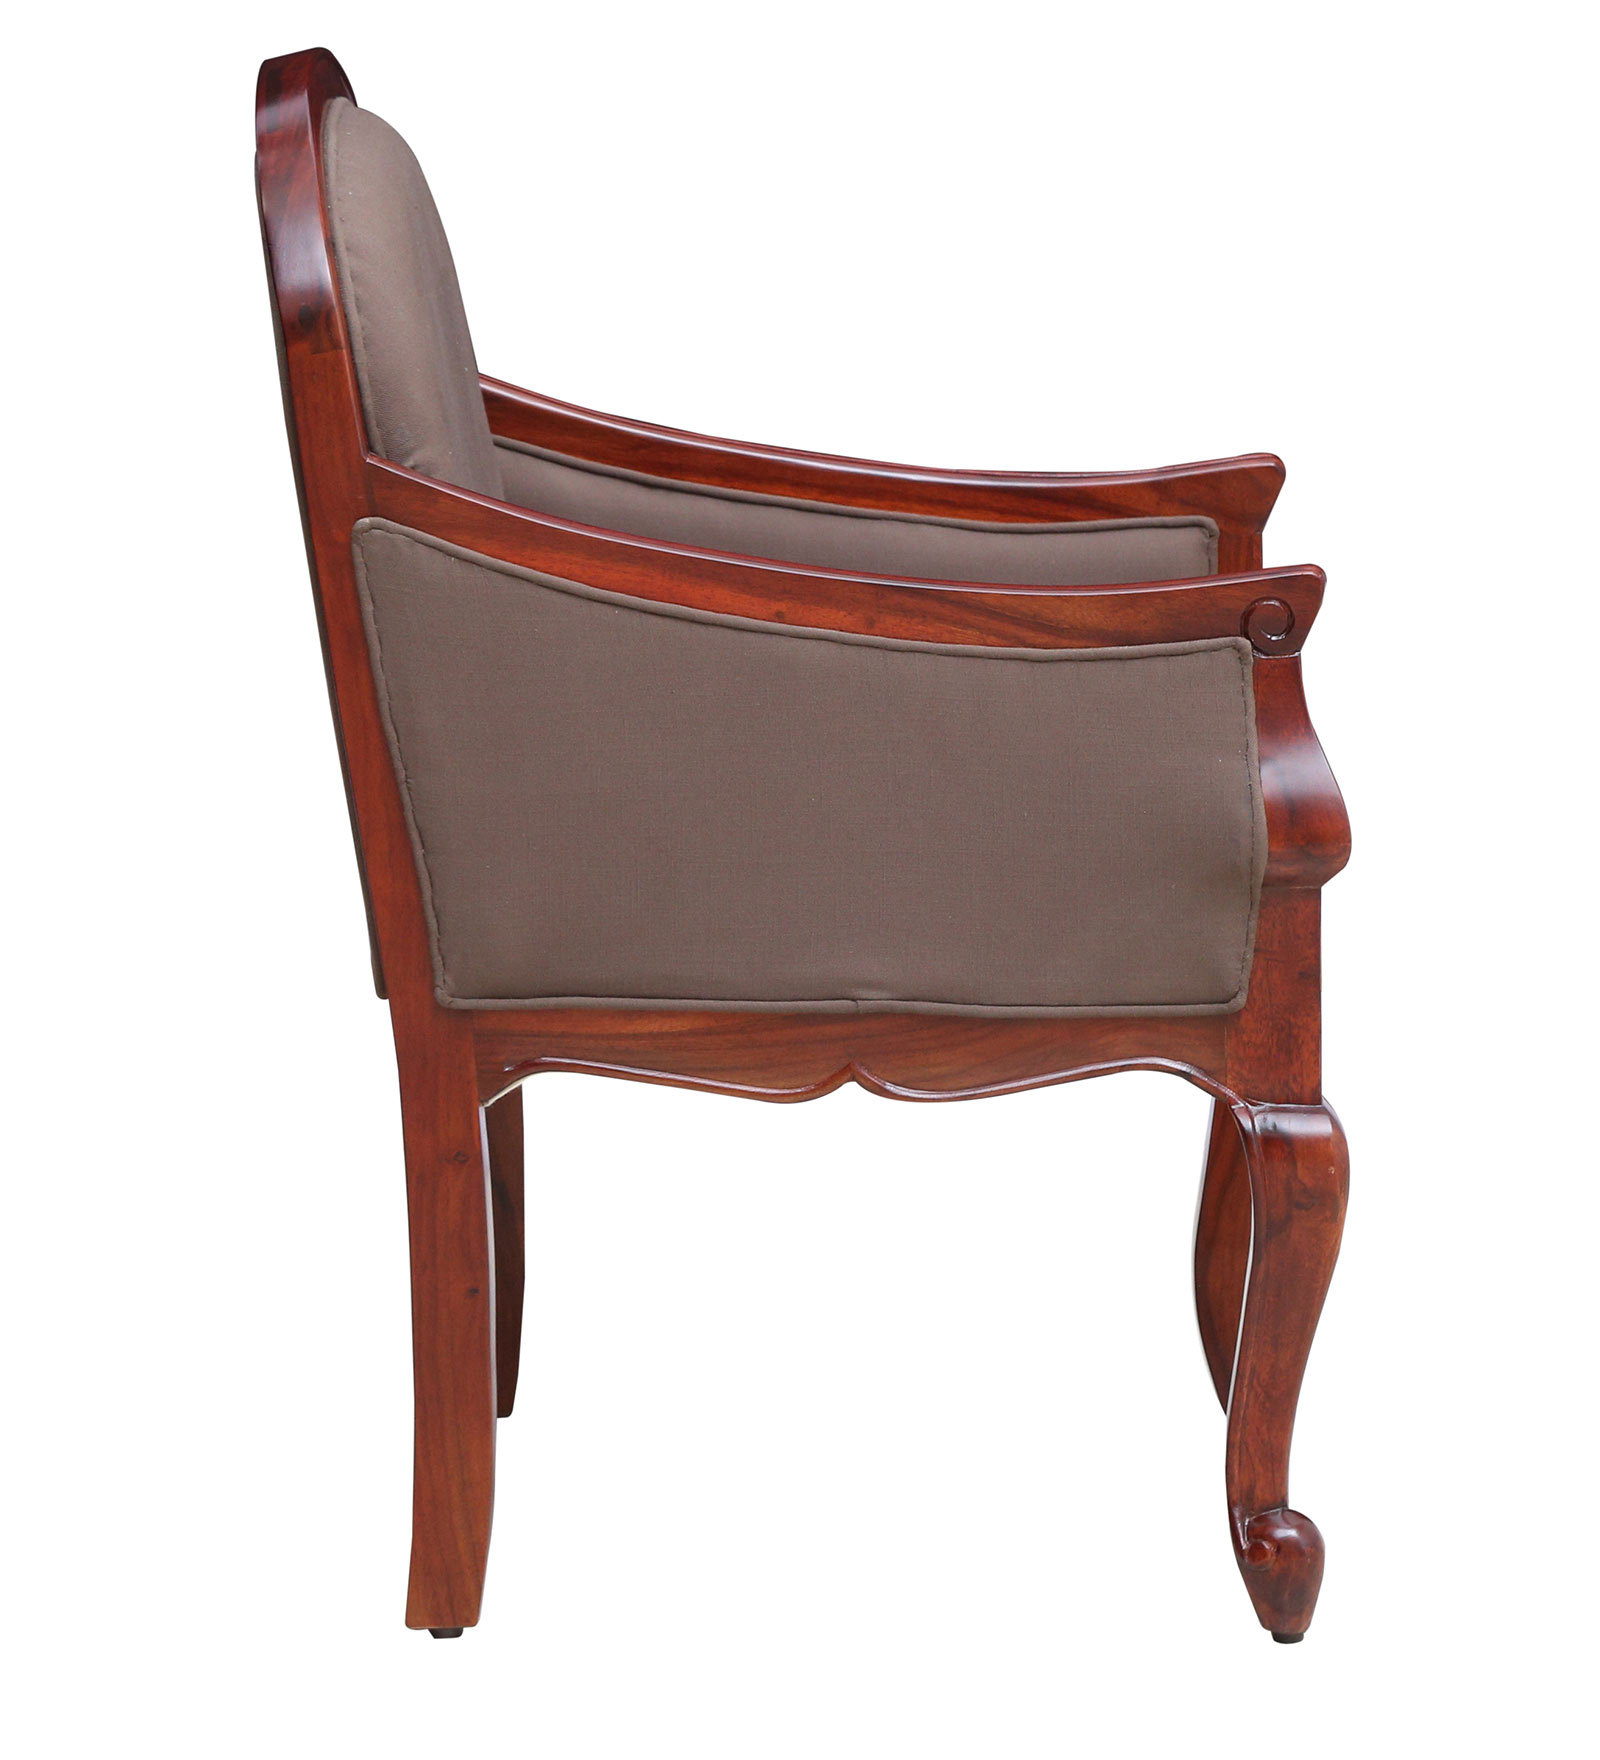Clifford Arm Chair in Honey Oak Finish by Amberville: (202, 9, 1418, 1693)
